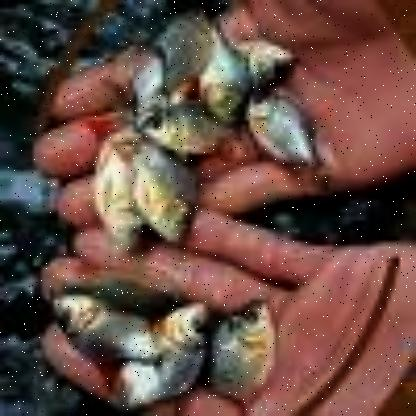ikan-pacu: (107, 291, 208, 407), (249, 91, 337, 183), (133, 146, 201, 254), (212, 300, 282, 390), (195, 8, 254, 112), (142, 107, 233, 158)
